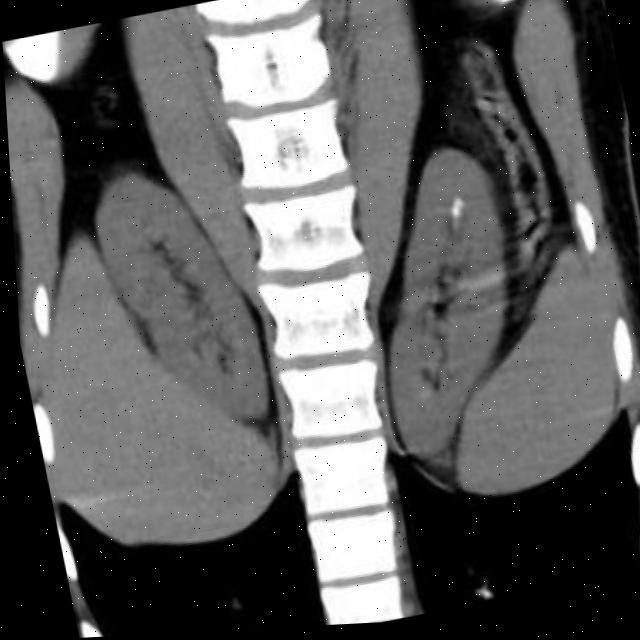Tas_Var: (449, 200, 463, 213), (448, 212, 463, 224)
